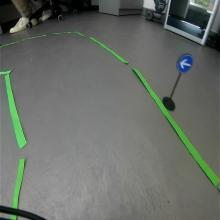left: (177, 53, 194, 75)
